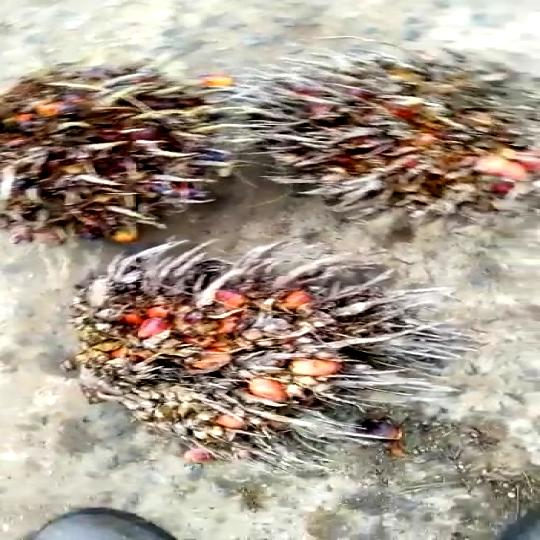terlalu masak: (59, 240, 470, 474), (218, 48, 540, 233), (0, 56, 244, 248)
